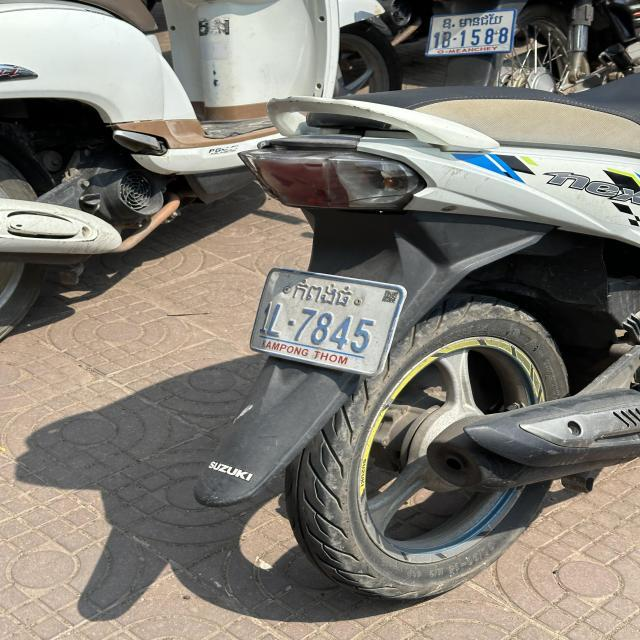Kampong_Thom: (293, 277, 354, 308)
Oudor_Meanchey: (442, 13, 502, 29)
